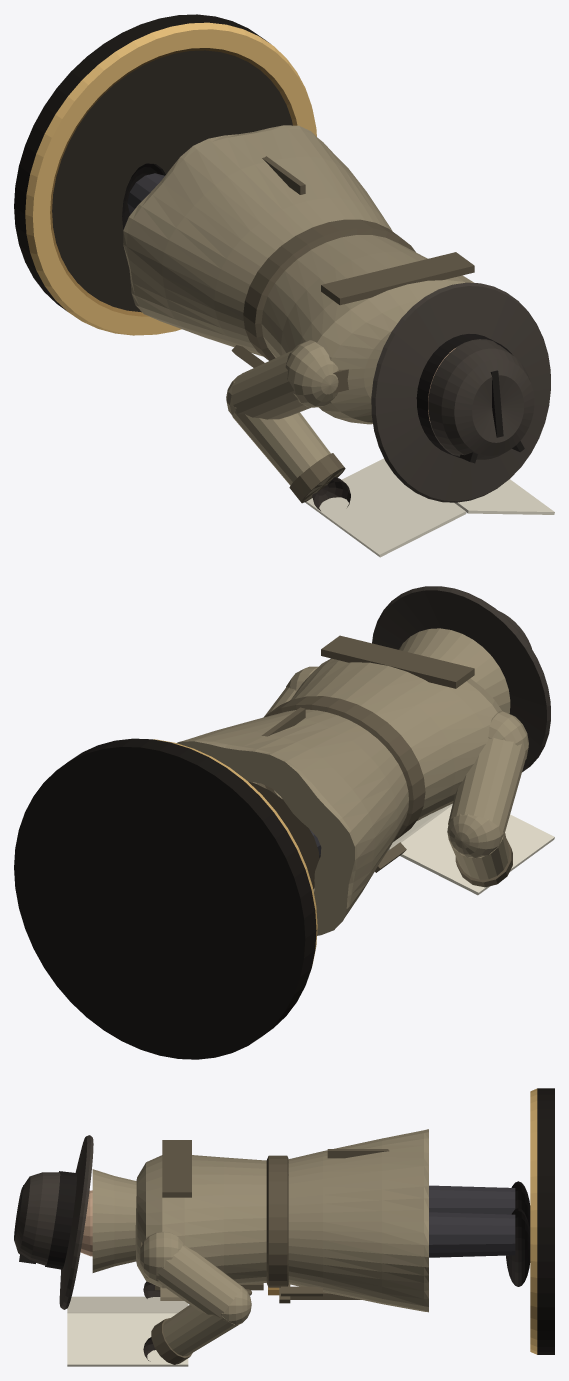
Rendered from agent-piece-r2.obj.
3 renders of one model, top to bottom at view 1: azimuth 30°, elevation 25°; view 2: azimuth 150°, elevation 25°; view 3: azimuth 270°, elevation 25°, orthographic. The views are drawn at different scales.
Visible parts, largest first — view 1: coat_skirt, base_top, hat_brim, coat_body, base_rim, hat_crown, page, base_side, belt, forearm, back_yoke, upper_arm (+5 smaller); view 2: base_side, coat_skirt, coat_body, hat_brim, upper_arm, page, belt, collar, back_yoke, elbow, coat_hem_shadow, shoulder (+3 smaller); view 3: coat_skirt, coat_body, page, leg, base_side, collar, upper_arm, hat_crown, belt, hat_brim, forearm, base_rim (+10 smaller).
Part boxes in pixels (<box>): coat_skirt: <box>123,125,392,356</box>; base_top: <box>52,50,292,312</box>; hat_brim: <box>371,282,550,502</box>; coat_body: <box>261,235,474,424</box>; base_rim: <box>25,22,316,335</box>; hat_crown: <box>428,340,534,459</box>; page: <box>305,458,554,557</box>; base_side: <box>14,14,270,310</box>; belt: <box>243,219,415,360</box>; forearm: <box>232,411,342,501</box>; back_yoke: <box>321,252,474,305</box>; upper_arm: <box>231,351,310,419</box>; base_side: <box>14,738,316,1059</box>; coat_skirt: <box>176,709,408,935</box>; coat_body: <box>274,658,501,820</box>; hat_brim: <box>372,586,550,772</box>; upper_arm: <box>263,687,526,836</box>; page: <box>388,803,554,895</box>; belt: <box>256,696,425,841</box>; collar: <box>398,628,510,713</box>; back_yoke: <box>321,635,474,688</box>; elbow: <box>447,813,503,858</box>; coat_hem_shadow: <box>248,781,319,889</box>; shoulder: <box>286,666,528,759</box>; coat_skirt: <box>288,1129,428,1312</box>; coat_body: <box>135,1155,266,1288</box>; page: <box>67,1296,188,1366</box>; leg: <box>429,1185,515,1257</box>; base_side: <box>537,1088,554,1354</box>; collar: <box>92,1169,136,1272</box>; upper_arm: <box>157,1245,241,1317</box>; hat_crown: <box>14,1172,60,1265</box>; belt: <box>266,1155,288,1287</box>; hat_brim: <box>59,1135,93,1309</box>; forearm: <box>163,1305,239,1355</box>; base_rim: <box>530,1088,537,1354</box>.
Size of the model in its own units: 0.54 by 0.54 by 1.1.
